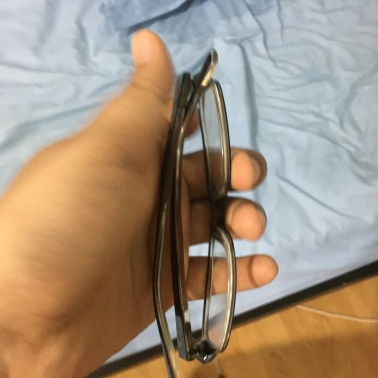glasses: (153, 62, 233, 378)
